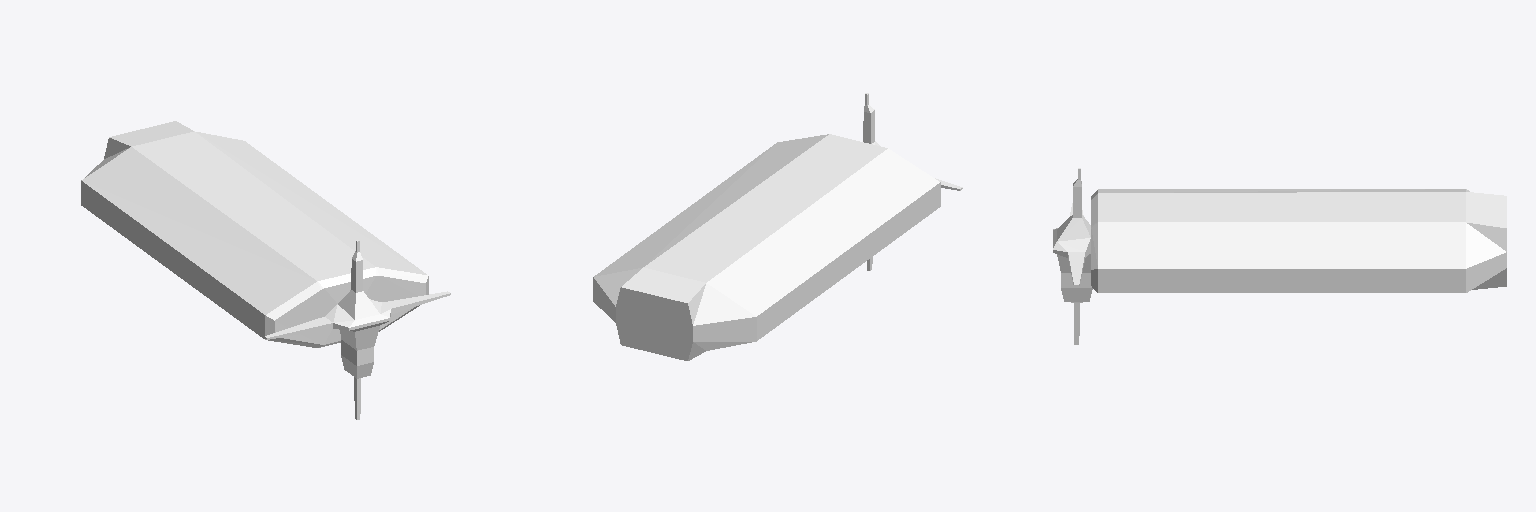
File: Tridacna-shield.obj
3 views of the same model, side by side, from view 1: azimuth 30°, elevation 25°; view 2: azimuth 150°, elevation 25°; view 3: azimuth 270°, elevation 25° (orthographic).
Parts seen in each view (by area): view 1: cube2_default_default; view 2: cube2_default_default; view 3: cube2_default_default.
Part boxes in pixels (bbox=[...]): cube2_default_default: bbox=[81, 121, 450, 419]; cube2_default_default: bbox=[593, 93, 962, 360]; cube2_default_default: bbox=[1053, 168, 1506, 344].
Bounding box in the file's own units: 1.95 × 1.8 × 4.18.